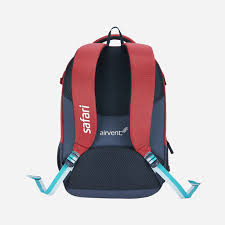backpack: (41, 21, 197, 207)
